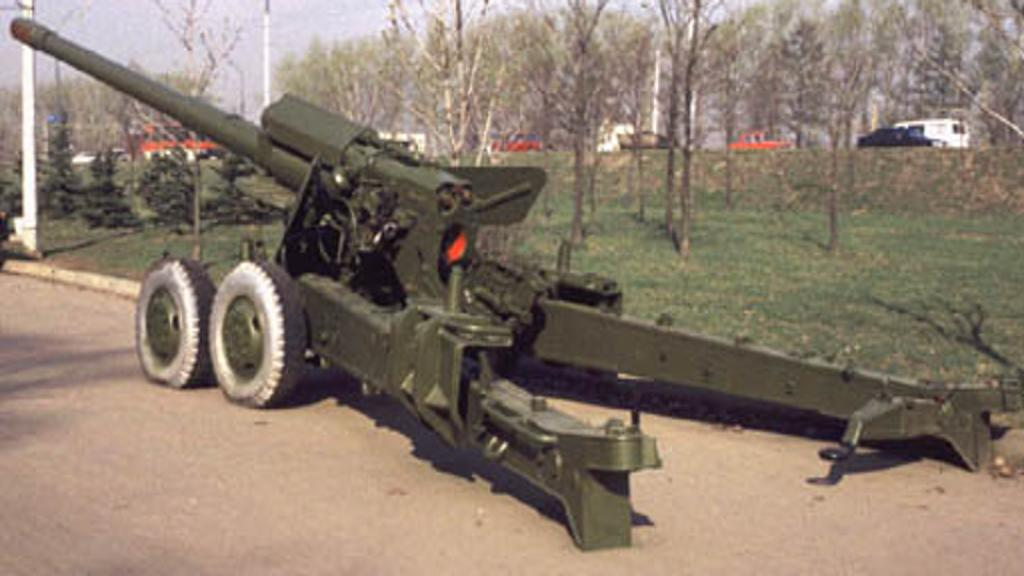ART: (8, 15, 1010, 553)
